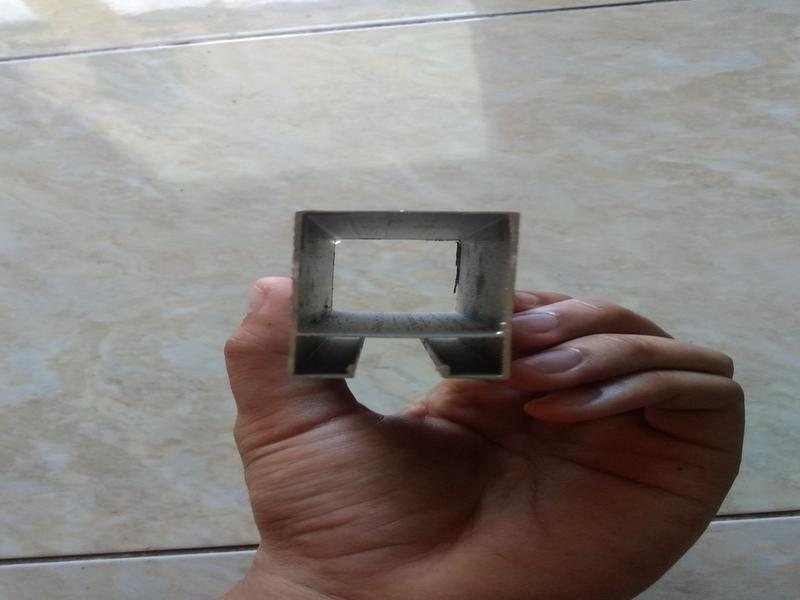Aluminium_1: (282, 189, 530, 388)
